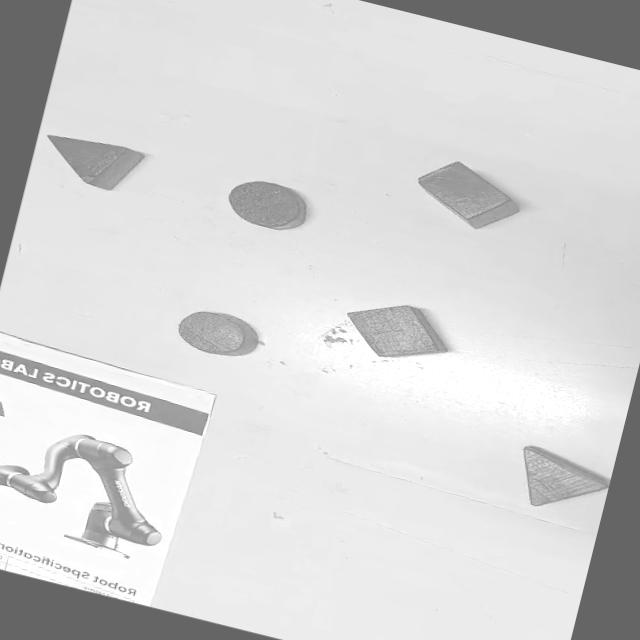bcircle: (221, 172, 313, 237)
bcube: (338, 290, 457, 372)
btriangle: (37, 126, 133, 192)
rcircle: (171, 303, 261, 365)
rcube: (406, 151, 528, 240)
rtriangle: (508, 443, 612, 522)
